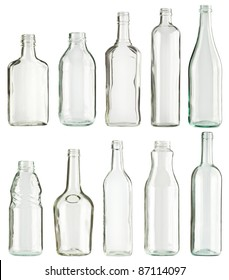glass_bottle: (50, 147, 97, 259), (141, 139, 183, 257), (186, 2, 225, 129), (104, 10, 142, 130), (188, 129, 223, 257), (100, 139, 135, 259), (6, 33, 50, 127), (148, 7, 182, 128), (56, 30, 97, 128), (7, 158, 45, 257)
